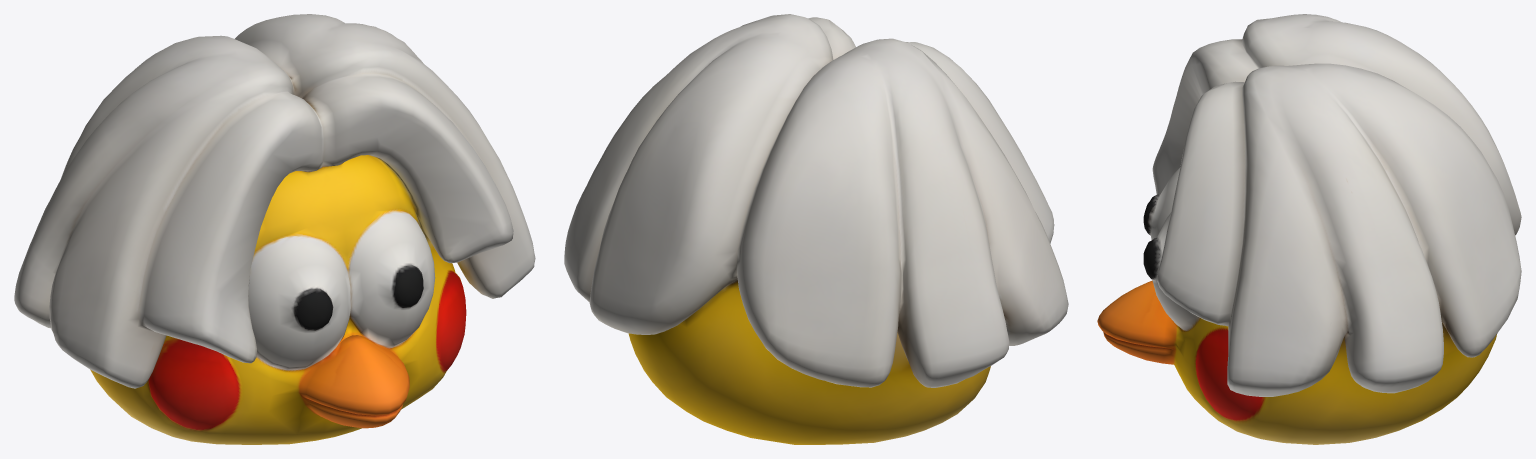
File: Head.glb
The picture shows the model from 3 angles, left to right: view 1: azimuth 30°, elevation 25°; view 2: azimuth 150°, elevation 25°; view 3: azimuth 270°, elevation 25°; orthographic projection. The views are drawn at different scales.
Visible parts, largest first — view 1: mesh_rep_0_ori_repair_quad; view 2: mesh_rep_0_ori_repair_quad; view 3: mesh_rep_0_ori_repair_quad.
Part boxes in pixels (x1=…): mesh_rep_0_ori_repair_quad: x1=14, y1=14, x2=535, y2=444; mesh_rep_0_ori_repair_quad: x1=564, y1=14, x2=1068, y2=444; mesh_rep_0_ori_repair_quad: x1=1097, y1=14, x2=1521, y2=444.
Bounding box in the file's own units: 1.14 × 0.866 × 0.9595.
Materials: 1 (1 with a texture image).
